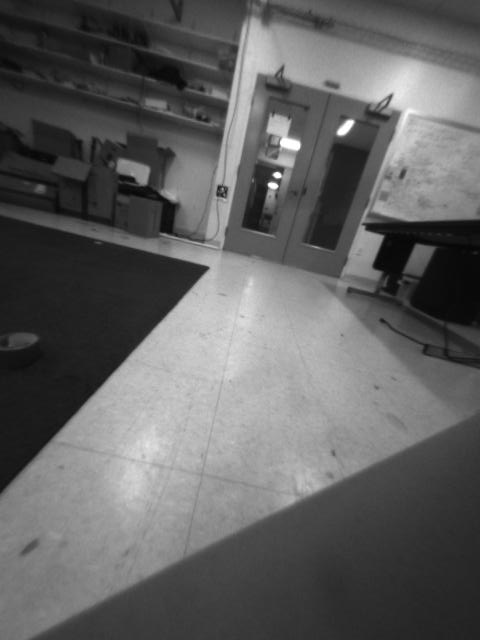dogtoy: (1, 318, 49, 365)
